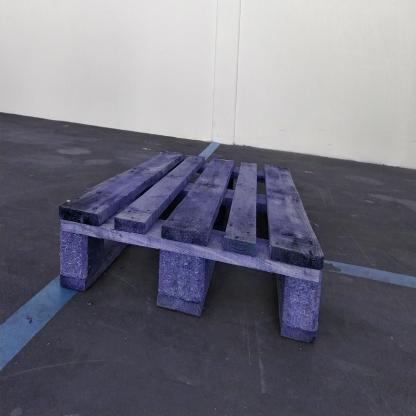BoxFace: (56, 145, 327, 348)
